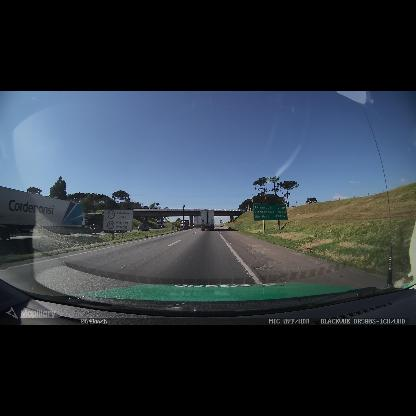O-MP: (172, 225, 174, 230), (230, 224, 232, 227)
R-19: (103, 209, 134, 231)
